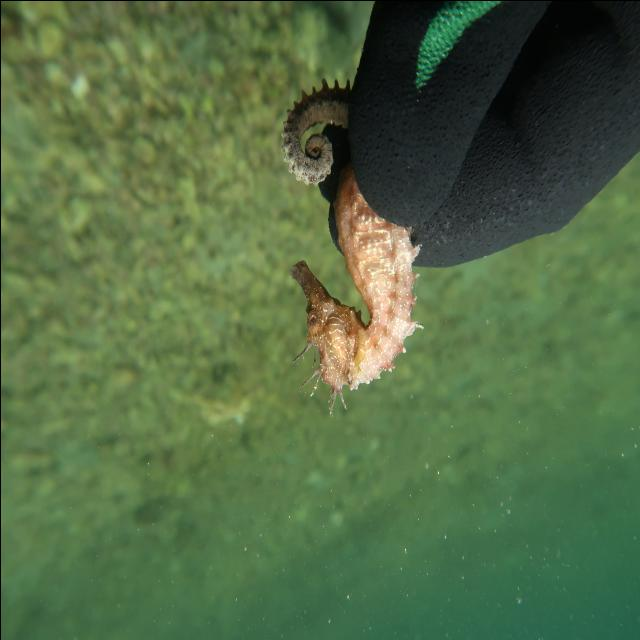Guttu: (283, 253, 366, 399)
